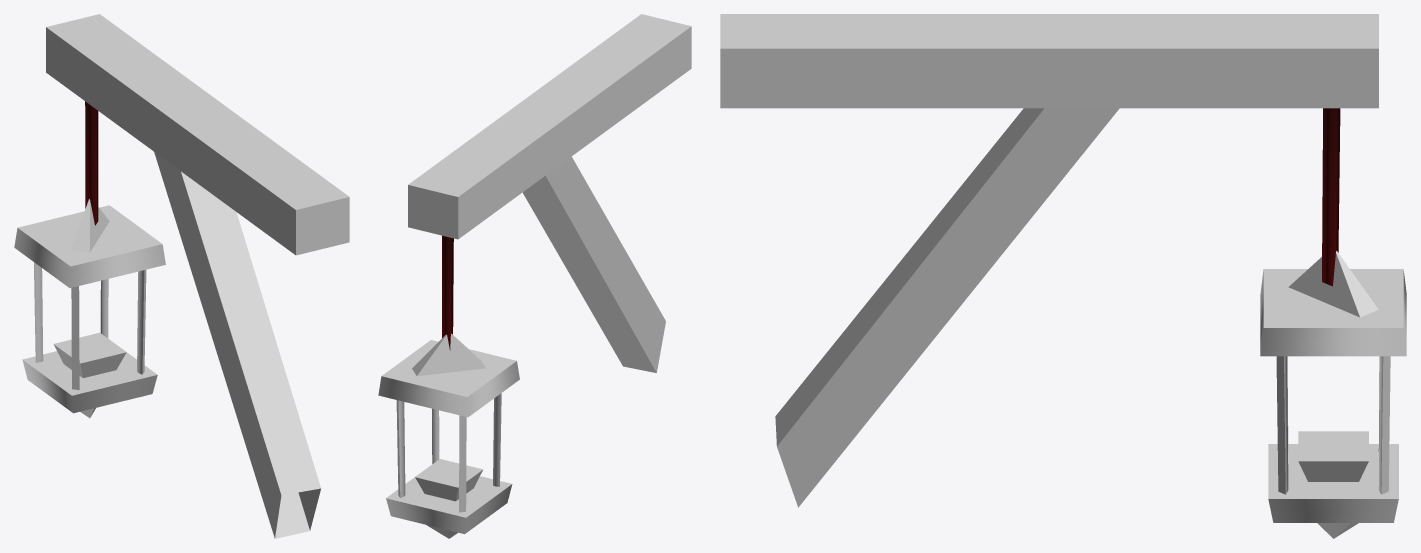
The model's file is TEM_Lamp_Post_02A.fbx.
3 renders of one model, left to right at view 1: azimuth 30°, elevation 25°; view 2: azimuth 150°, elevation 25°; view 3: azimuth 270°, elevation 25°, orthographic. The views are drawn at different scales.
Visible parts, largest first — view 1: TEM_Lamp_Post_02A_LOD2; view 2: TEM_Lamp_Post_02A_LOD2; view 3: TEM_Lamp_Post_02A_LOD2.
Part boxes in pixels (left/top/right/bottom): TEM_Lamp_Post_02A_LOD2: left=14, top=14, right=349, bottom=538; TEM_Lamp_Post_02A_LOD2: left=378, top=14, right=691, bottom=538; TEM_Lamp_Post_02A_LOD2: left=720, top=14, right=1406, bottom=538.
Bounding box in the file's own units: 32.2 × 123 × 151.
